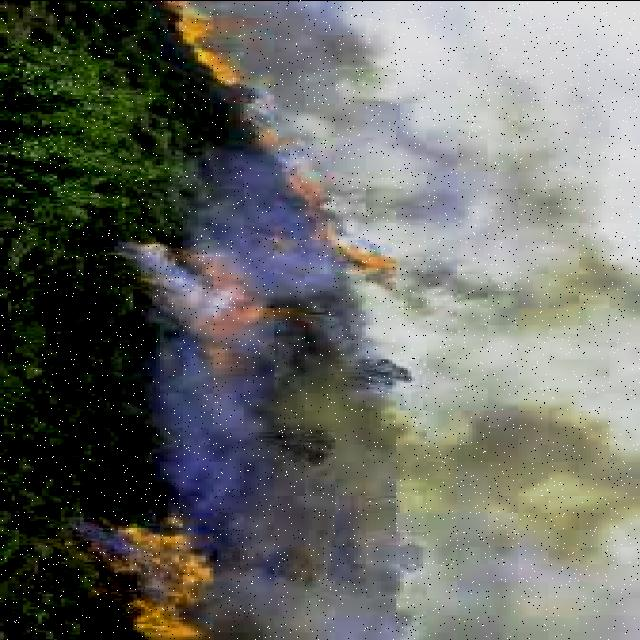api: (128, 527, 218, 603), (181, 12, 233, 90), (132, 605, 218, 640), (332, 242, 402, 268), (225, 299, 301, 321)
asap: (211, 103, 615, 640), (244, 1, 488, 108)
